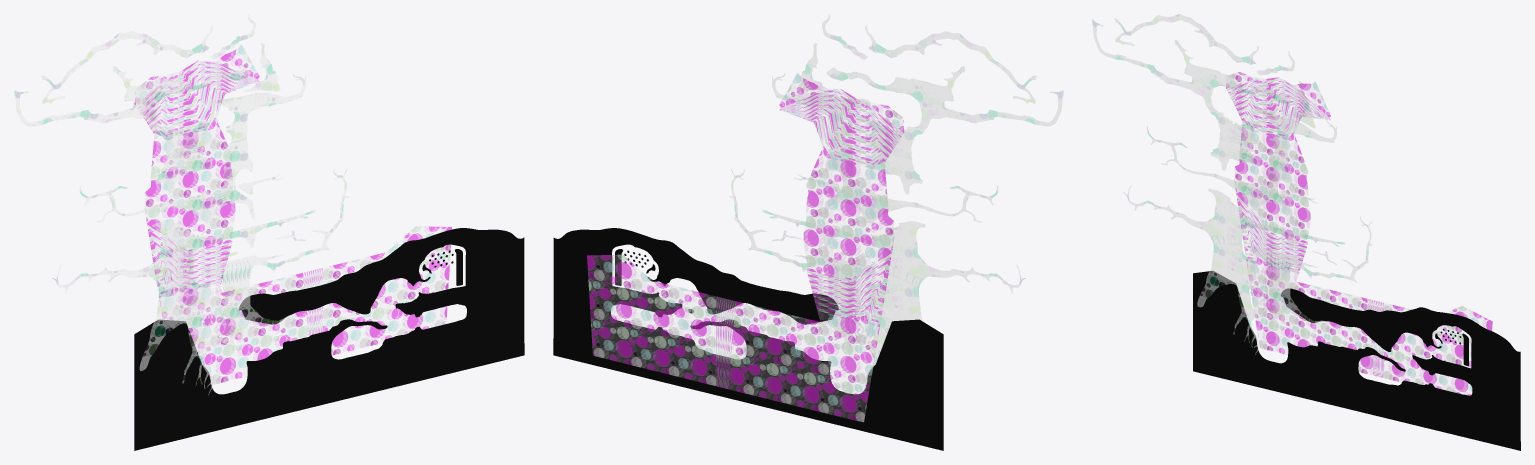
File: bigtree02.glb
3 renders of one model, left to right at view 1: azimuth 30°, elevation 25°; view 2: azimuth 150°, elevation 25°; view 3: azimuth 330°, elevation 25°, orthographic. The views are drawn at different scales.
Parts seen in each view (by area): view 1: bigtree02; view 2: bigtree02; view 3: bigtree02.
Part boxes in pixels (left/top/right/bottom): bigtree02: left=14, top=14, right=524, bottom=450; bigtree02: left=553, top=14, right=1063, bottom=450; bigtree02: left=1092, top=14, right=1520, bottom=450.
Size of the model in its own units: 2727 by 2154 by 181.
3 materials, 3 textured.
